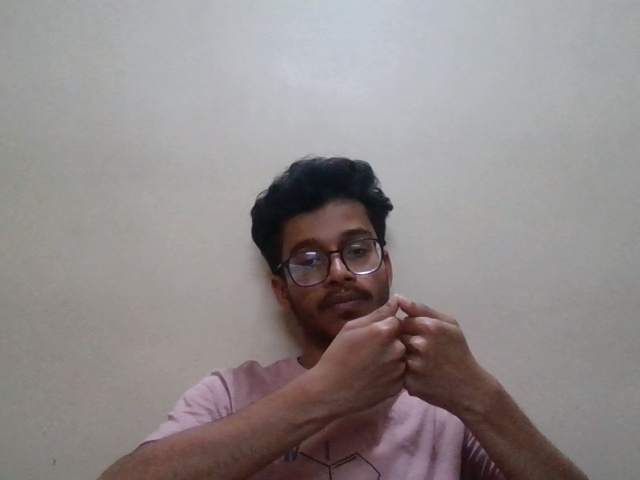sorry: (302, 290, 490, 425)
